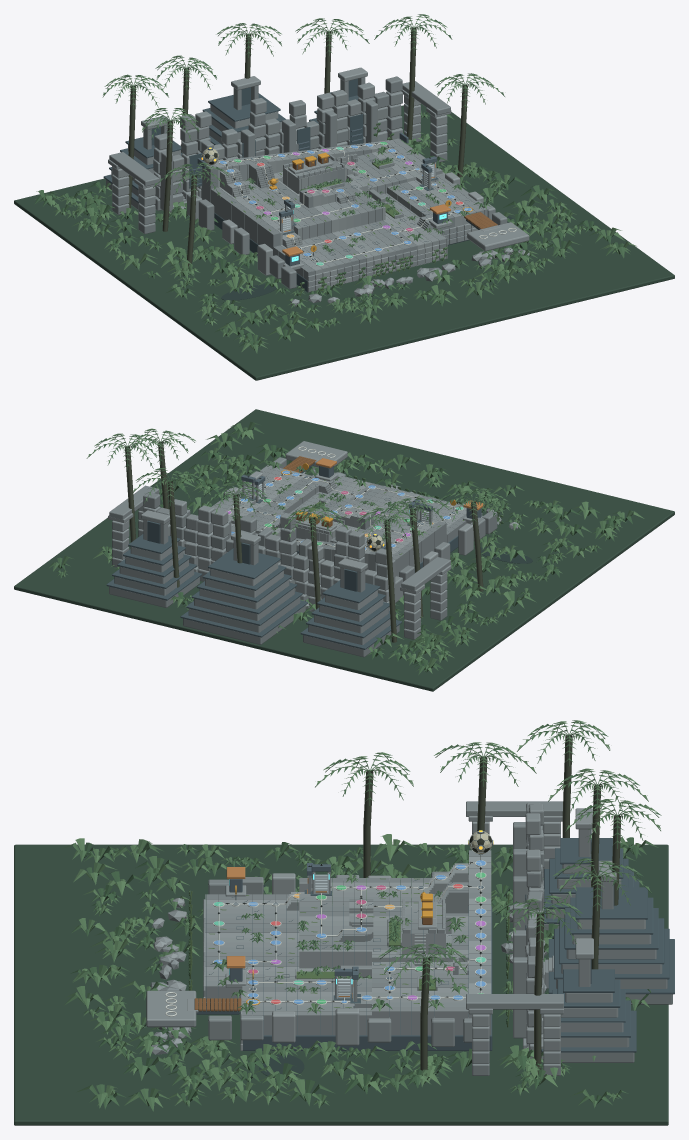
The model's file is booststone-v7.glb.
The picture shows the model from 3 angles, top to bottom: view 1: azimuth 30°, elevation 25°; view 2: azimuth 150°, elevation 25°; view 3: azimuth 270°, elevation 25°; orthographic projection. The views are drawn at different scales.
Parts seen in each view (by area): view 1: WEB_STATIC_WEB_Forest floor, WEB_STATIC_WEB_Limestone 02, WEB_STATIC_WEB_Limestone 01, WEB_STATIC_WEB_Limestone 00, WEB_STATIC_WEB_Limestone 03, WEB_STATIC_WEB_Leaf 2, WEB_STATIC_WEB_Limestone 04, WEB_STATIC_WEB_Leaf 1, WEB_STATIC_WEB_Leaf 4, WEB_STATIC_WEB_Leaf 0, WEB_STATIC_WEB_Leaf 3, WEB_STATIC_WEB_Limestone 06 (+6 smaller); view 2: WEB_STATIC_WEB_Forest floor, WEB_STATIC_WEB_Deep slate, WEB_STATIC_WEB_Limestone 00, WEB_STATIC_WEB_Limestone 02, WEB_STATIC_WEB_Limestone 01, WEB_STATIC_WEB_Limestone 03, WEB_STATIC_WEB_Leaf 2, WEB_STATIC_WEB_Leaf 1, WEB_STATIC_WEB_Limestone 04, WEB_STATIC_WEB_Leaf 4, WEB_STATIC_WEB_Leaf 3, WEB_STATIC_WEB_Wet jungle bark (+4 smaller); view 3: WEB_STATIC_WEB_Forest floor, WEB_STATIC_WEB_Deep slate, WEB_STATIC_WEB_Limestone 02, WEB_STATIC_WEB_Limestone 01, WEB_STATIC_WEB_Limestone 03, WEB_STATIC_WEB_Leaf 2, WEB_STATIC_WEB_Limestone 04, WEB_STATIC_WEB_Limestone 00, WEB_STATIC_WEB_Leaf 1, WEB_STATIC_WEB_Leaf 0, WEB_STATIC_WEB_Leaf 4, WEB_STATIC_WEB_Leaf 3 (+6 smaller).
Part boxes in pixels (bbox=[...]): WEB_STATIC_WEB_Forest floor: bbox=[14, 103, 674, 380]; WEB_STATIC_WEB_Limestone 02: bbox=[112, 77, 529, 296]; WEB_STATIC_WEB_Limestone 01: bbox=[109, 81, 510, 291]; WEB_STATIC_WEB_Limestone 00: bbox=[106, 76, 491, 292]; WEB_STATIC_WEB_Limestone 03: bbox=[108, 82, 529, 303]; WEB_STATIC_WEB_Leaf 2: bbox=[43, 15, 630, 353]; WEB_STATIC_WEB_Limestone 04: bbox=[112, 67, 500, 306]; WEB_STATIC_WEB_Leaf 1: bbox=[36, 14, 633, 344]; WEB_STATIC_WEB_Leaf 4: bbox=[35, 16, 618, 351]; WEB_STATIC_WEB_Leaf 0: bbox=[34, 14, 622, 349]; WEB_STATIC_WEB_Leaf 3: bbox=[45, 17, 636, 348]; WEB_STATIC_WEB_Limestone 06: bbox=[214, 142, 483, 295]; WEB_STATIC_WEB_Forest floor: bbox=[14, 409, 674, 691]; WEB_STATIC_WEB_Deep slate: bbox=[106, 463, 458, 649]; WEB_STATIC_WEB_Limestone 00: bbox=[109, 472, 497, 657]; WEB_STATIC_WEB_Limestone 02: bbox=[112, 466, 464, 633]; WEB_STATIC_WEB_Limestone 01: bbox=[109, 457, 450, 644]; WEB_STATIC_WEB_Limestone 03: bbox=[108, 441, 501, 621]; WEB_STATIC_WEB_Leaf 2: bbox=[53, 429, 637, 671]; WEB_STATIC_WEB_Leaf 1: bbox=[48, 421, 619, 674]; WEB_STATIC_WEB_Limestone 04: bbox=[112, 454, 518, 609]; WEB_STATIC_WEB_Leaf 4: bbox=[63, 430, 644, 673]; WEB_STATIC_WEB_Leaf 3: bbox=[63, 423, 625, 668]; WEB_STATIC_WEB_Wet jungle bark: bbox=[125, 442, 483, 642]; WEB_STATIC_WEB_Forest floor: bbox=[14, 844, 668, 1125]; WEB_STATIC_WEB_Deep slate: bbox=[196, 829, 674, 1052]; WEB_STATIC_WEB_Limestone 02: bbox=[151, 803, 662, 1054]; WEB_STATIC_WEB_Limestone 01: bbox=[150, 801, 667, 1063]; WEB_STATIC_WEB_Limestone 03: bbox=[146, 813, 656, 1048]; WEB_STATIC_WEB_Leaf 2: bbox=[62, 721, 660, 1111]; WEB_STATIC_WEB_Limestone 04: bbox=[152, 808, 651, 1038]; WEB_STATIC_WEB_Limestone 00: bbox=[156, 850, 672, 1075]; WEB_STATIC_WEB_Leaf 1: bbox=[64, 724, 658, 1109]; WEB_STATIC_WEB_Leaf 0: bbox=[70, 722, 661, 1105]; WEB_STATIC_WEB_Leaf 4: bbox=[73, 720, 660, 1107]; WEB_STATIC_WEB_Leaf 3: bbox=[72, 720, 655, 1108].
Bounding box in the file's own units: 23 × 7.08 × 23.22.
